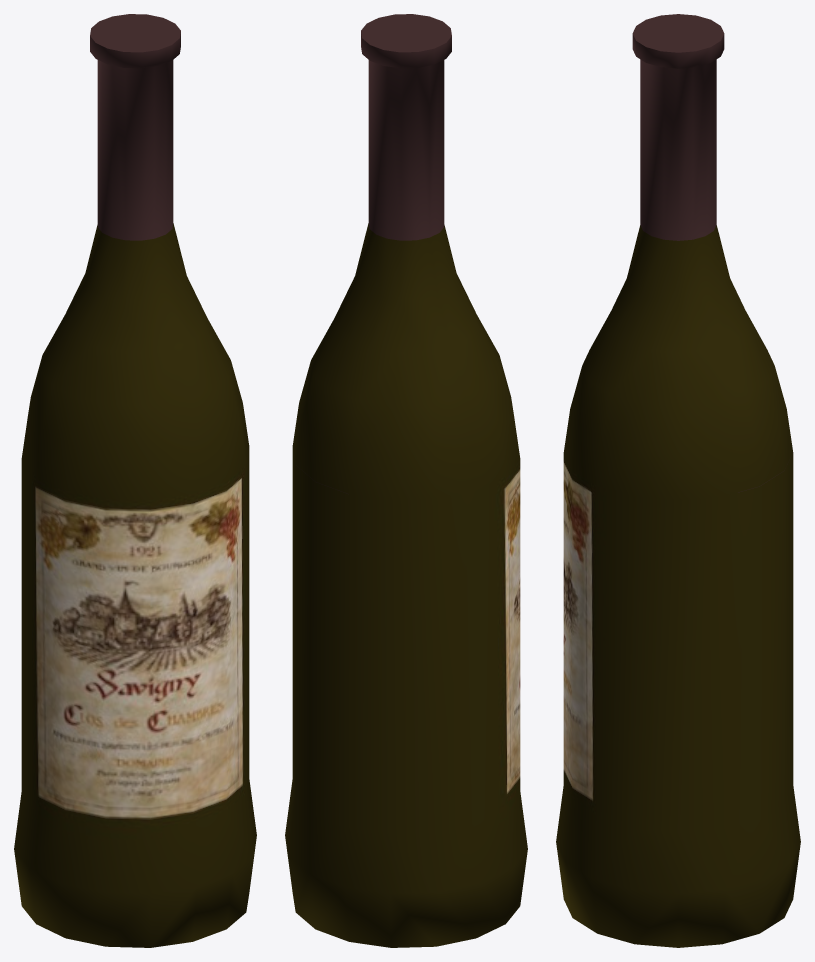
The model's file is winebottle.obj.
3 renders of one model, left to right at view 1: azimuth 30°, elevation 25°; view 2: azimuth 150°, elevation 25°; view 3: azimuth 270°, elevation 25°, orthographic.
Parts seen in each view (by area): view 1: skin; view 2: skin; view 3: skin.
Part boxes in pixels (box(x1,y1,x2,y2)): skin: box(14, 14, 256, 947); skin: box(285, 14, 527, 947); skin: box(556, 14, 800, 947).
Size of the model in its own units: 1.54 by 6 by 1.54.
1 material, 1 textured.
